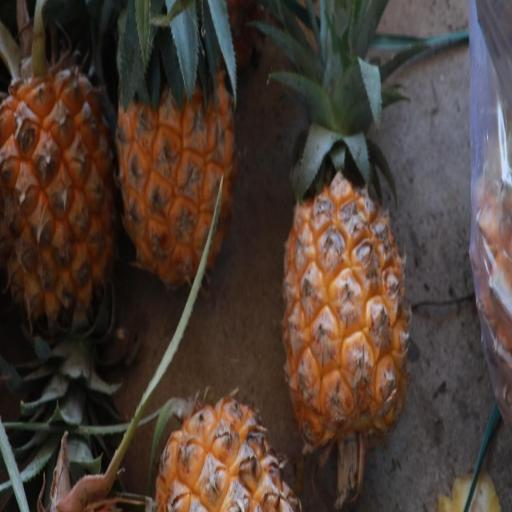Pineapple - v8 v1: (274, 154, 413, 458), (0, 25, 121, 351), (111, 0, 240, 298), (141, 384, 312, 512)
